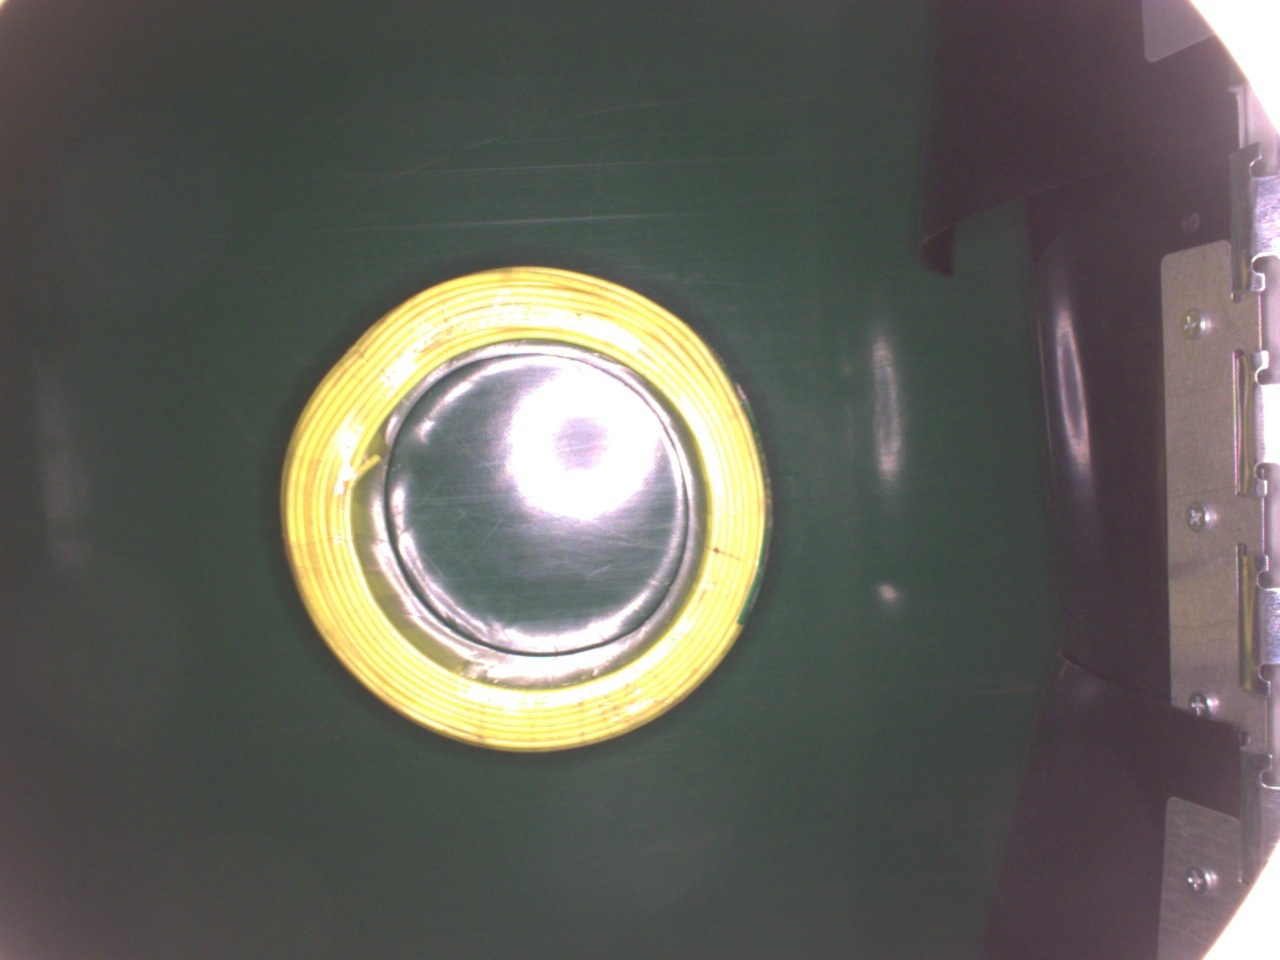yellow: (288, 263, 774, 750)
